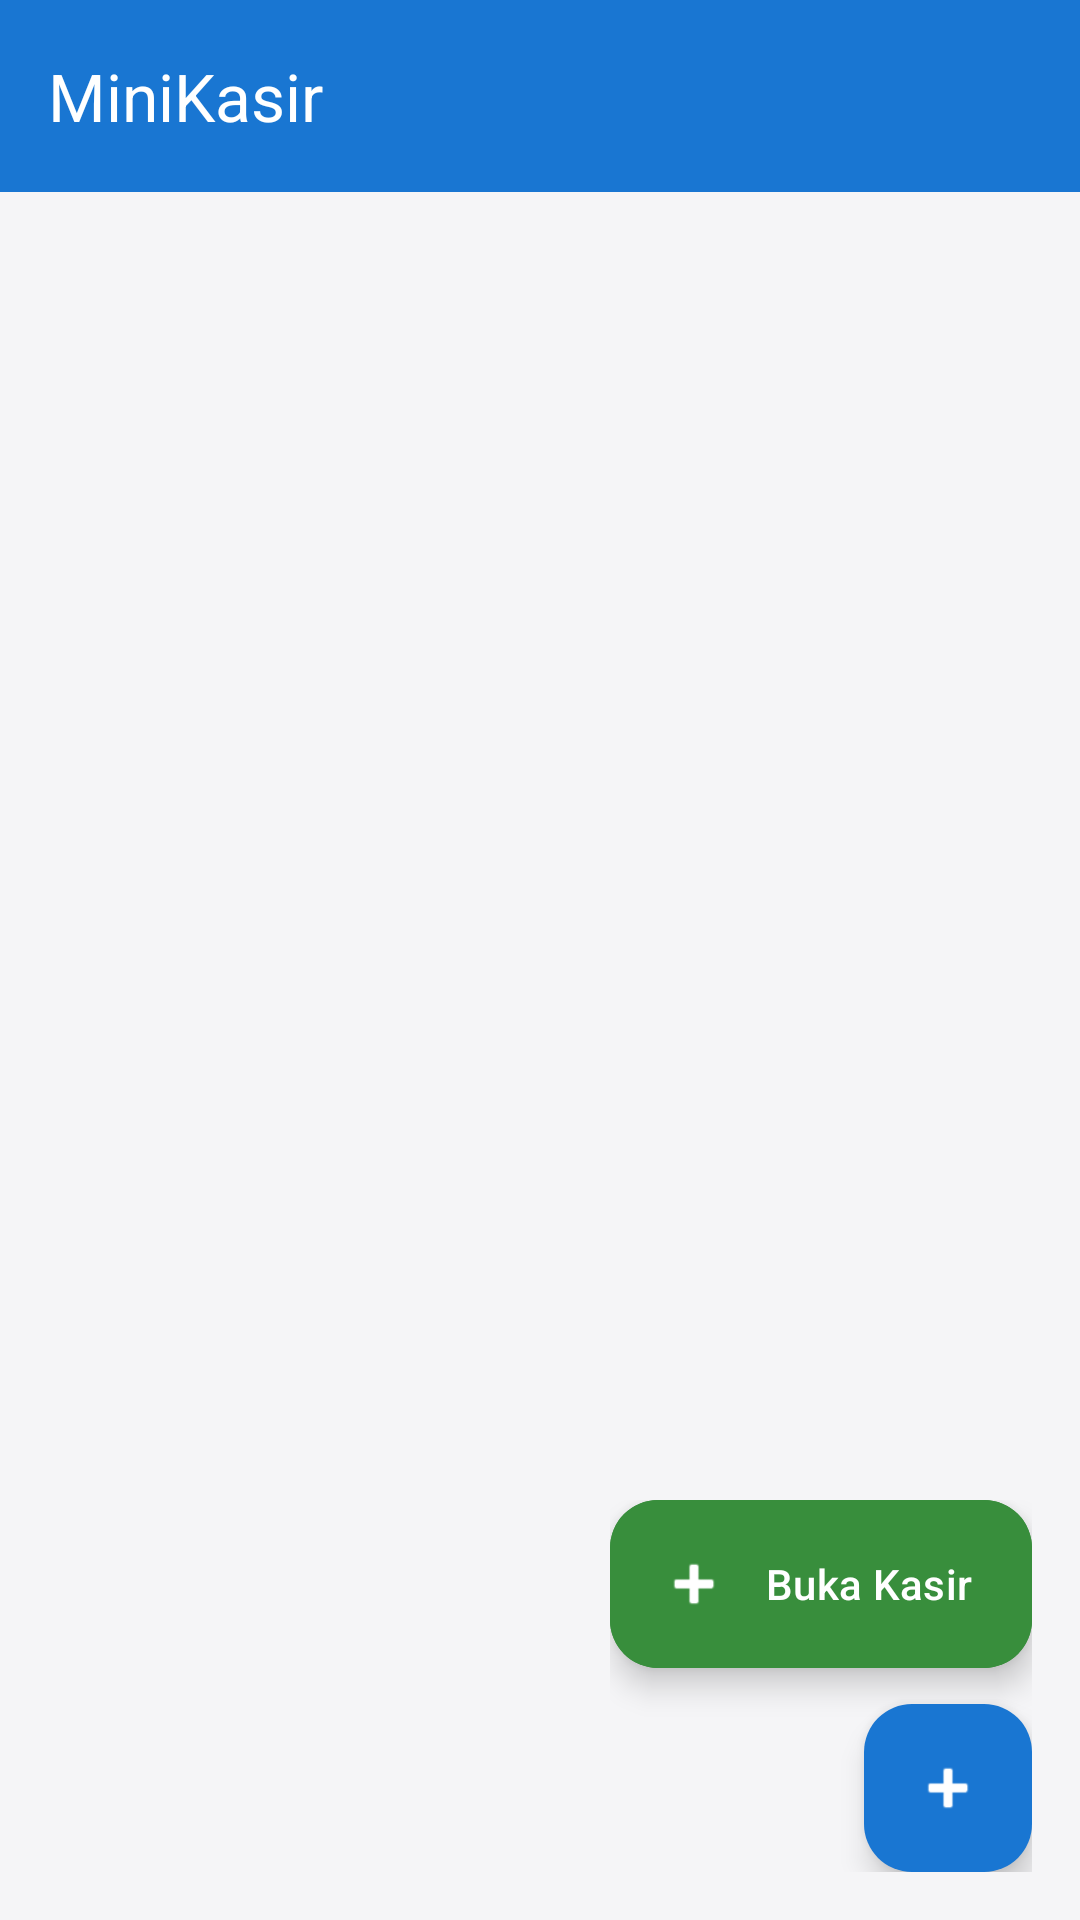

Named icons in this screenshot (1080 x 1920) and their bounding boxes, [left=x1, top=y1, right=x2, bottom=y2]:
Tambah Produk: [left=864, top=1704, right=1032, bottom=1872]
